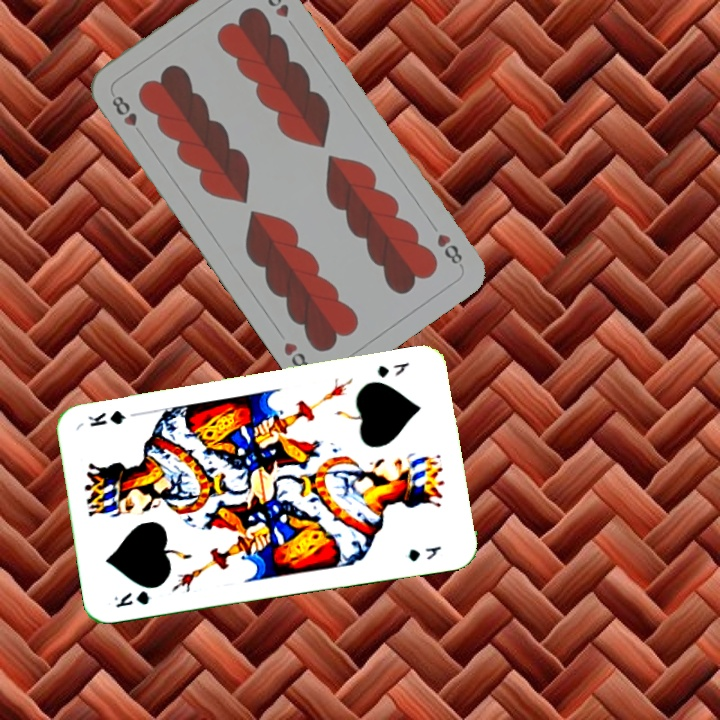GK: (110, 586, 152, 610), (373, 358, 412, 381)
H8: (107, 91, 147, 140), (433, 229, 466, 270)
